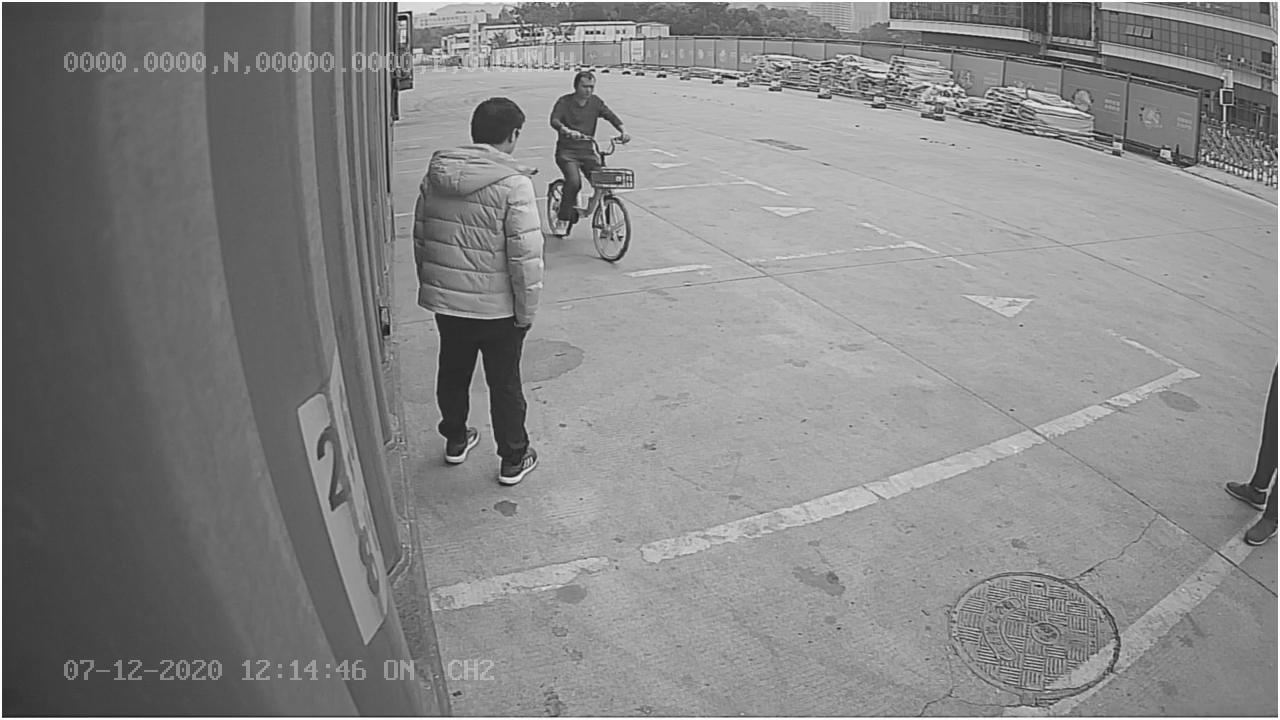person: (410, 98, 557, 481)
